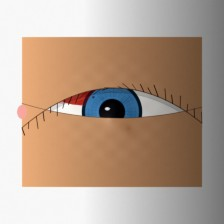hemorrhage_spot: (49, 70, 110, 119)
